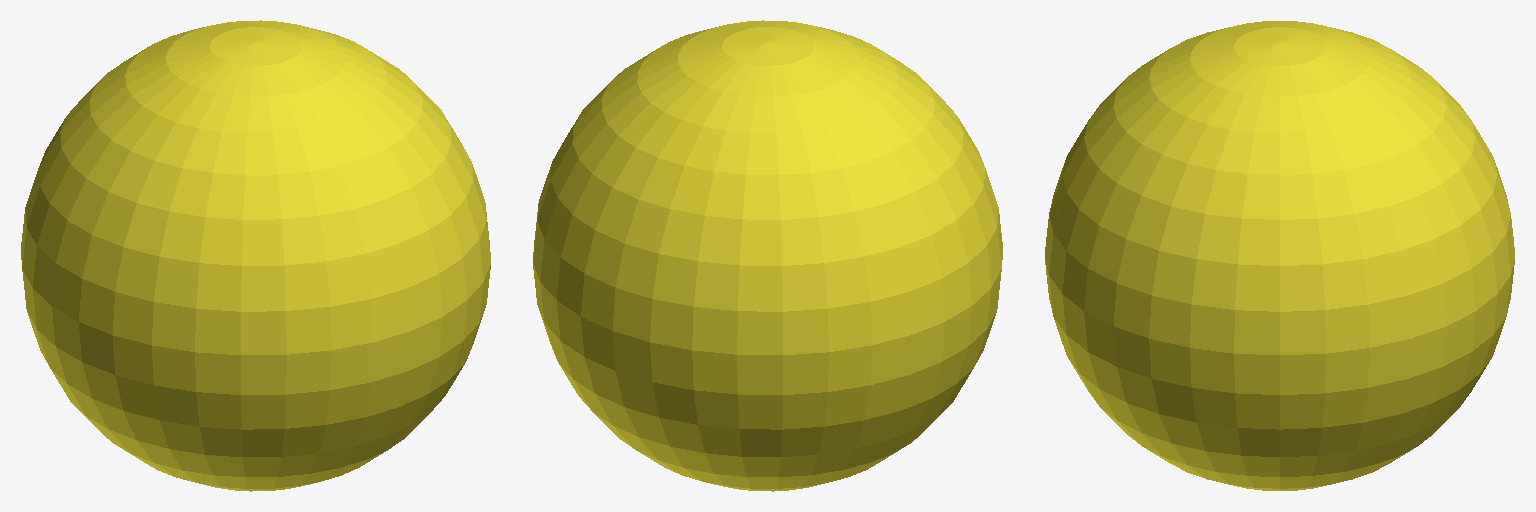
URDF robot description (gripper):
<?xml version="1.0"?>
<robot name="gripper">
    <link name="end_effector_left">
        <collision>
            <origin xyz="0 0 0" rpy="0 0 0"/>
            <geometry>
                <mesh filename="package://hdt_michigan_description/meshes/PINCER_HOUSING2.STL"/>
            </geometry>
        </collision>

        <visual>
            <origin xyz="0 0 0" rpy="0 0 0"/>
            <geometry>
                <mesh filename="package://hdt_michigan_description/meshes/PINCER_HOUSING2.STL"/>
            </geometry>
        </visual>
    </link>

    <joint name="leftgripper" type="fixed">
        <axis xyz="0 0 1"/>
        <origin xyz="0 0.0135 0.068553" rpy="1.5707 -0.42 -1.5707"/>
        <parent link="end_effector_left"/>
        <child link="leftgripper_link"/>
    </joint>


    <link name="leftgripper_link">
        <collision>
            <origin xyz="0 0 0" rpy="0 0 0"/>
            <geometry>
                <mesh filename="package://hdt_michigan_description/meshes/PINCER_FINGER.STL"/>
            </geometry>
        </collision>

        <visual>
            <origin xyz="0 0 0" rpy="0 0 0"/>
            <geometry>
                <mesh filename="package://hdt_michigan_description/meshes/PINCER_FINGER.STL"/>
            </geometry>
        </visual>
    </link>

    <joint name="leftgripper2" type="fixed">
        <axis xyz="0 0 1"/>
        <origin xyz="0 -0.0135 0.068553" rpy="1.5707 -0.42 1.5707"/>
        <parent link="end_effector_left"/>
        <child link="leftgripper2_link"/>
    </joint>

    <link name="leftgripper2_link">
        <collision>
            <origin xyz="0 0 0" rpy="0 0 0"/>
            <geometry>
                <mesh filename="package://hdt_michigan_description/meshes/PINCER_FINGER.STL"/>
            </geometry>
        </collision>

        <visual>
            <origin xyz="0 0 0" rpy="0 0 0"/>
            <geometry>
                <mesh filename="package://hdt_michigan_description/meshes/PINCER_FINGER.STL"/>
            </geometry>
        </visual>
    </link>

    <link name="left_tool">
        <visual name="left_tool_visual">
            <origin xyz="0 0 0" rpy="0 0 0"/>
            <geometry>
                <sphere radius="0.002"/>
            </geometry>
        </visual>
    </link>

    <joint name="left_tool_joint" type="fixed">
        <parent link="end_effector_left"/>
        <child link="left_tool"/>
        <origin xyz="0.0 0.0 0.181" rpy="0 0 0"/>
    </joint>

</robot>

--- Render facts (derived) ---
3 views of the same robot in one strip: view 1: azimuth 30°, elevation 25°; view 2: azimuth 150°, elevation 25°; view 3: azimuth 270°, elevation 25° (orthographic).
Robot: gripper — 4 links, 3 joints (3 fixed); root link end_effector_left; default pose: every joint at zero.
Links seen in each view (by area): view 1: left_tool; view 2: left_tool; view 3: left_tool.
Link boxes in pixels (x1=…): left_tool: x1=21, y1=20, x2=490, y2=491; left_tool: x1=533, y1=20, x2=1002, y2=491; left_tool: x1=1045, y1=21, x2=1514, y2=490.
Size in the robot's own frame: 0.004 by 0.004 by 0.004 metres.
Meshes: 2 distinct files referenced, 0 mesh visuals loaded (none loaded); not drawn: 3 (reference not matched to a file when rendering).